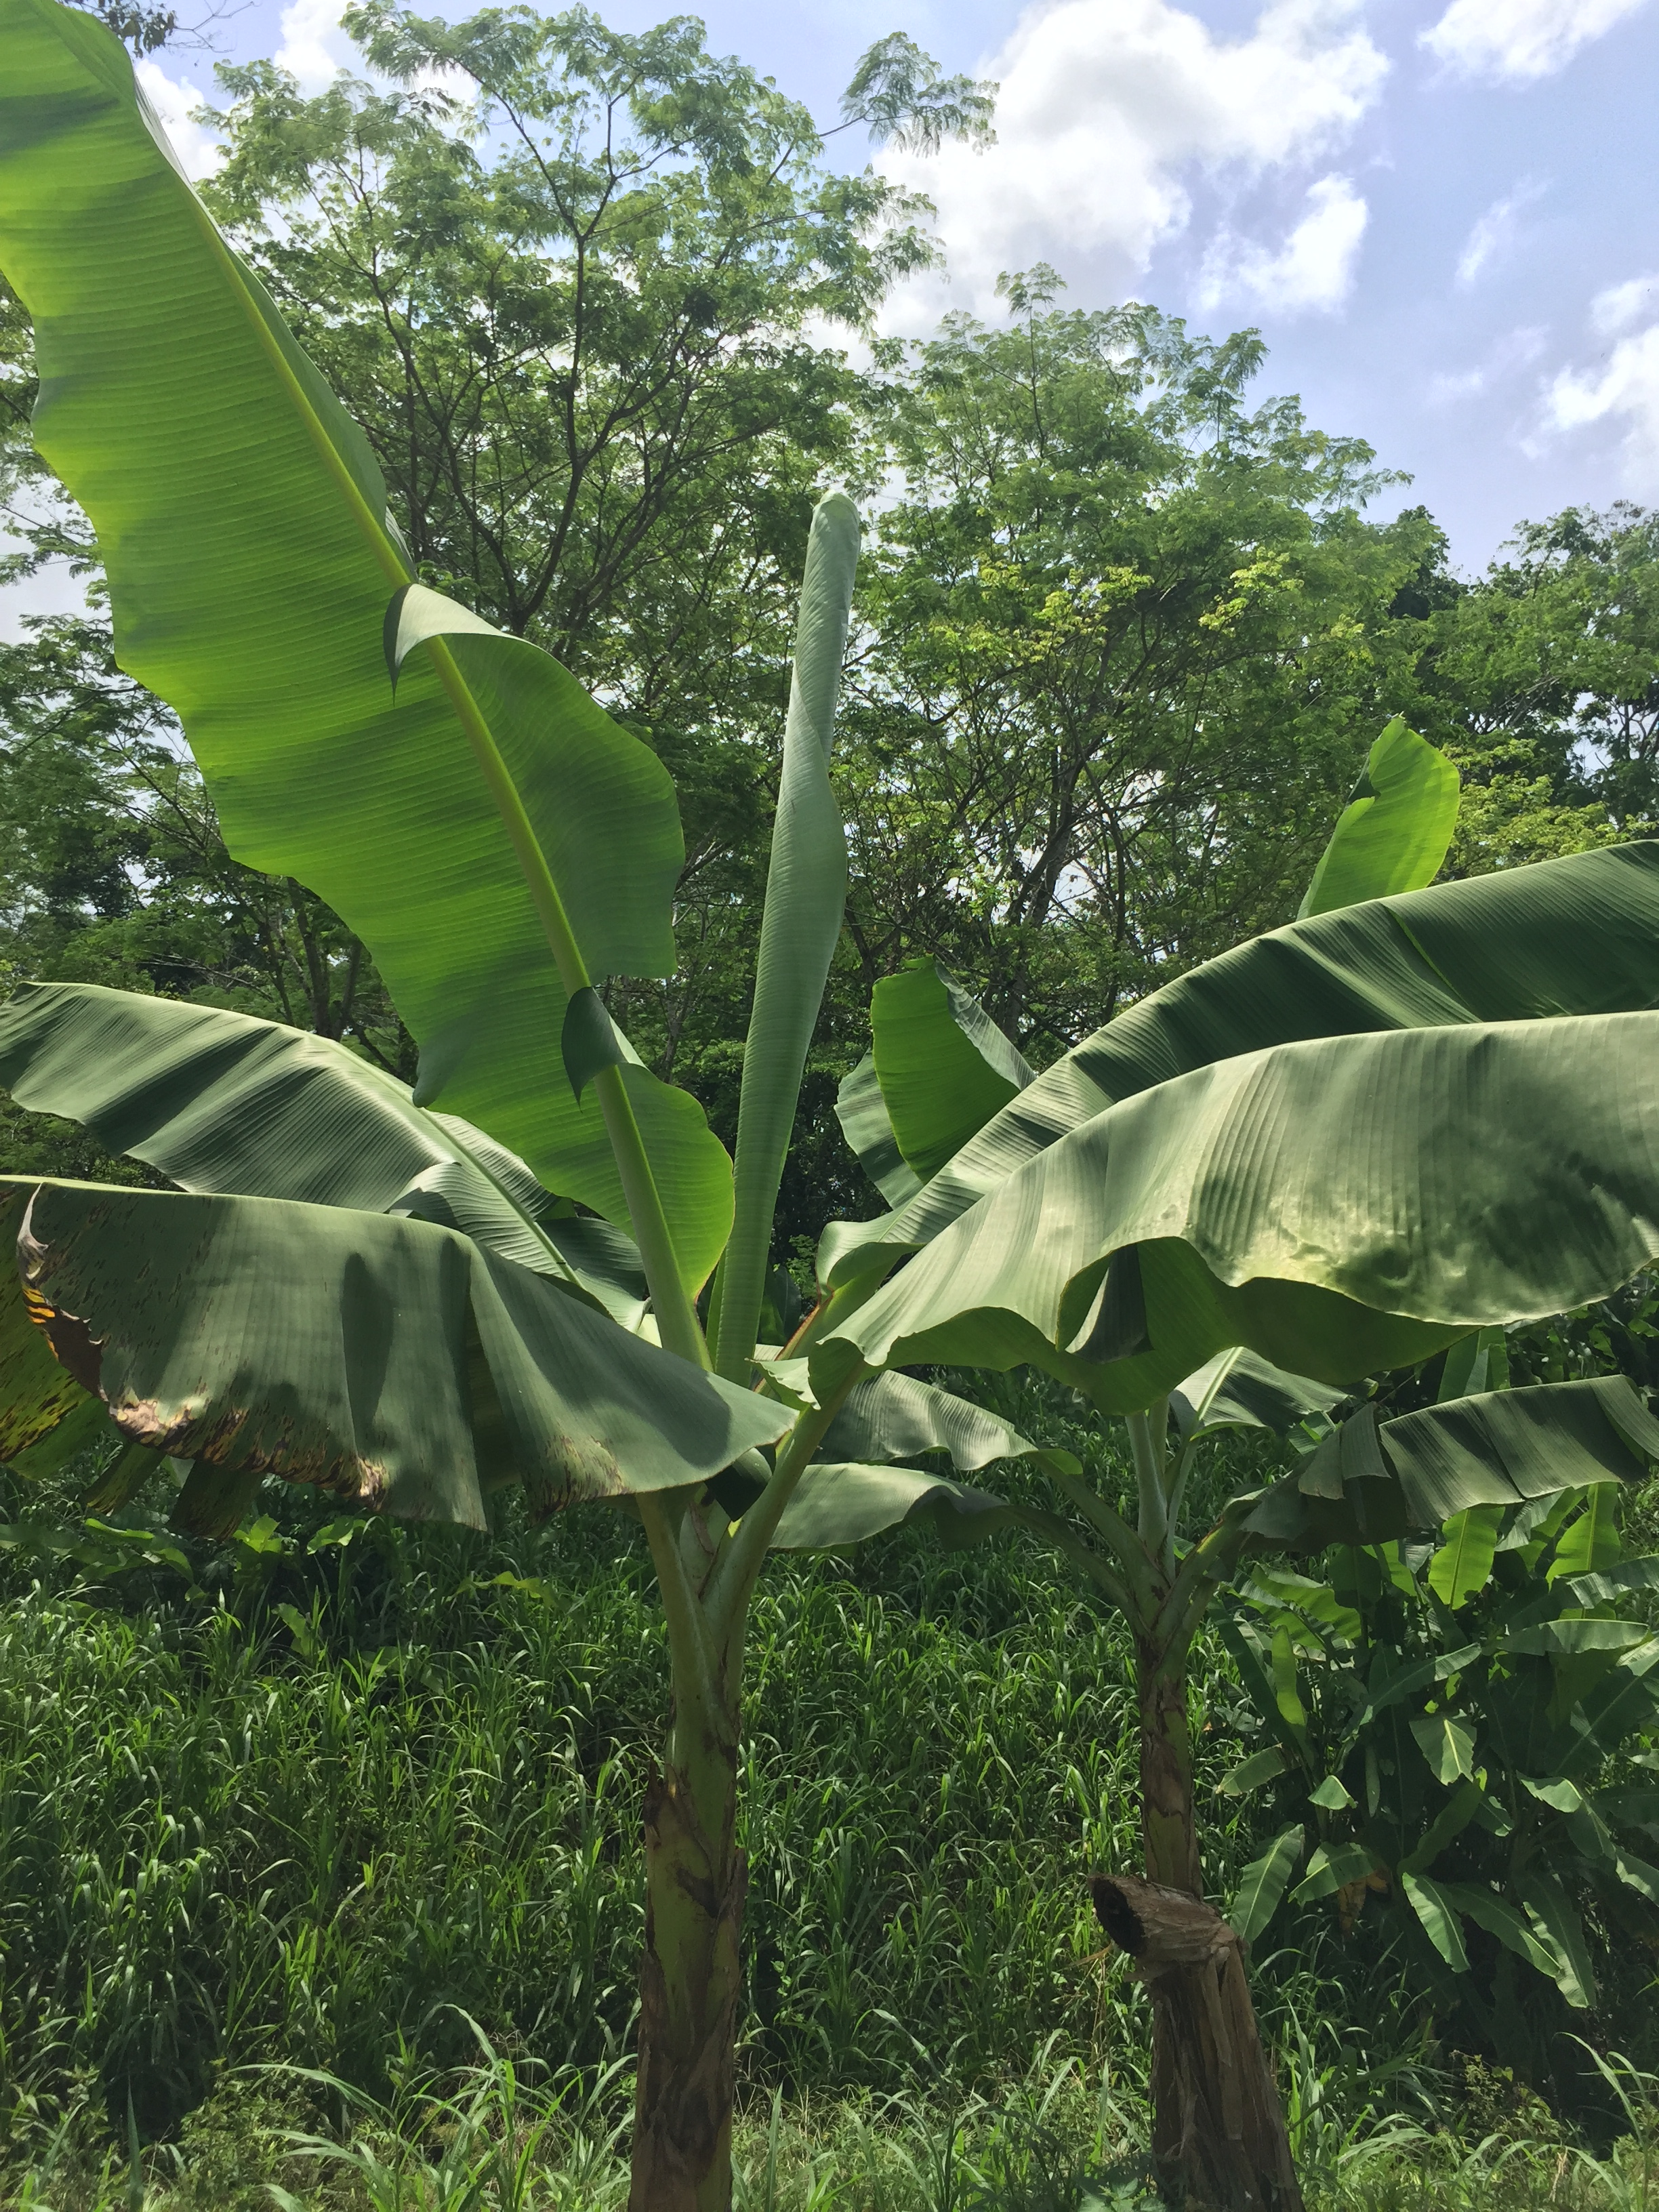candleleafs: (706, 486, 864, 1376)
